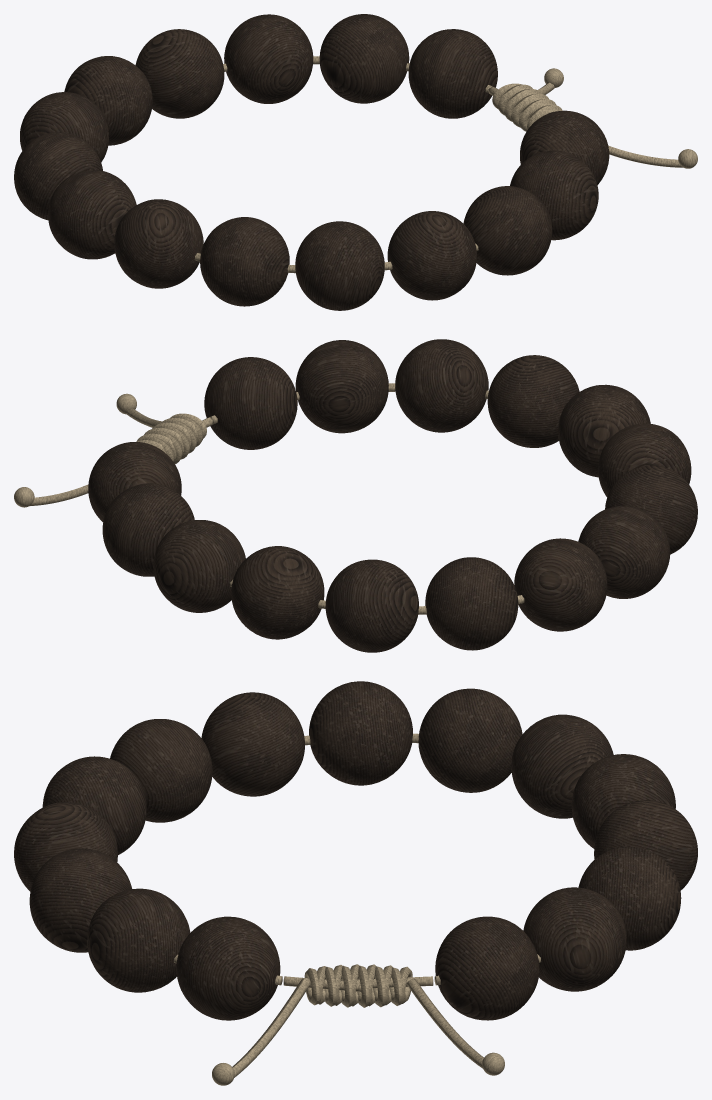
The model's file is dab-bagienny.glb.
The picture shows the model from 3 angles, top to bottom: view 1: azimuth 30°, elevation 25°; view 2: azimuth 150°, elevation 25°; view 3: azimuth 270°, elevation 25°; orthographic projection. The views are drawn at different scales.
Parts seen in each view (by area): view 1: bead_round_1.003, bead_round_1, bead_round_0.003, bead_round_2, bead_round_2.003, bead_round_0, bead_round_2.002, bead_round_0.004, bead_round_0.001, bead_round_1.002, bead_round_1.004, bead_round_1.001 (+4 smaller); view 2: bead_round_1.001, bead_round_0.004, bead_round_1.004, bead_round_2.001, bead_round_0.001, bead_round_0.002, bead_round_2.004, bead_round_2, bead_round_2.003, bead_round_1.002, bead_round_1, bead_round_1.003 (+4 smaller); view 3: bead_round_1.002, bead_round_0, bead_round_2.004, bead_round_0.002, bead_round_2.002, bead_round_1.004, bead_round_1, bead_round_0.003, bead_round_2.001, bead_round_0.004, bead_round_2, bead_round_1.003 (+5 smaller).
Boxes of the visible parts, box(x1,y1,x2,y2) form: bead_round_1.003: box(295, 221, 384, 310); bead_round_1: box(319, 14, 409, 103); bead_round_0.003: box(200, 217, 289, 306); bead_round_2: box(224, 14, 313, 103); bead_round_2.003: box(387, 211, 476, 300); bead_round_0: box(408, 29, 497, 118); bead_round_2.002: box(114, 199, 203, 288); bead_round_0.004: box(463, 186, 552, 275); bead_round_0.001: box(135, 29, 224, 118); bead_round_1.002: box(48, 170, 136, 259); bead_round_1.004: box(510, 150, 598, 240); bead_round_1.001: box(64, 56, 152, 145); bead_round_1.001: box(325, 559, 418, 652); bead_round_0.004: box(395, 339, 488, 432); bead_round_1.004: box(295, 340, 388, 433); bead_round_2.001: box(425, 557, 518, 650); bead_round_0.001: box(231, 546, 324, 639); bead_round_0.002: box(514, 538, 607, 631); bead_round_2.004: box(204, 357, 297, 449); bead_round_2: box(153, 520, 245, 612); bead_round_2.003: box(487, 355, 579, 447); bead_round_1.002: box(578, 505, 670, 598); bead_round_1: box(102, 483, 194, 576); bead_round_1.003: box(558, 384, 650, 477); bead_round_1.002: box(309, 681, 412, 785); bead_round_0: box(435, 916, 539, 1020); bead_round_2.004: box(176, 916, 280, 1020); bead_round_0.002: box(418, 688, 522, 792); bead_round_2.002: box(201, 692, 304, 796); bead_round_1.004: box(87, 888, 190, 992); bead_round_1: box(523, 887, 626, 991); bead_round_0.003: box(110, 719, 212, 822); bead_round_2.001: box(511, 714, 613, 818); bead_round_0.004: box(29, 848, 131, 952); bead_round_2: box(578, 846, 681, 950); bead_round_1.003: box(42, 756, 146, 854).
Bounding box in the file's own units: 7.52 × 1 × 6.56.
Materials: 4 (4 with a texture image).
